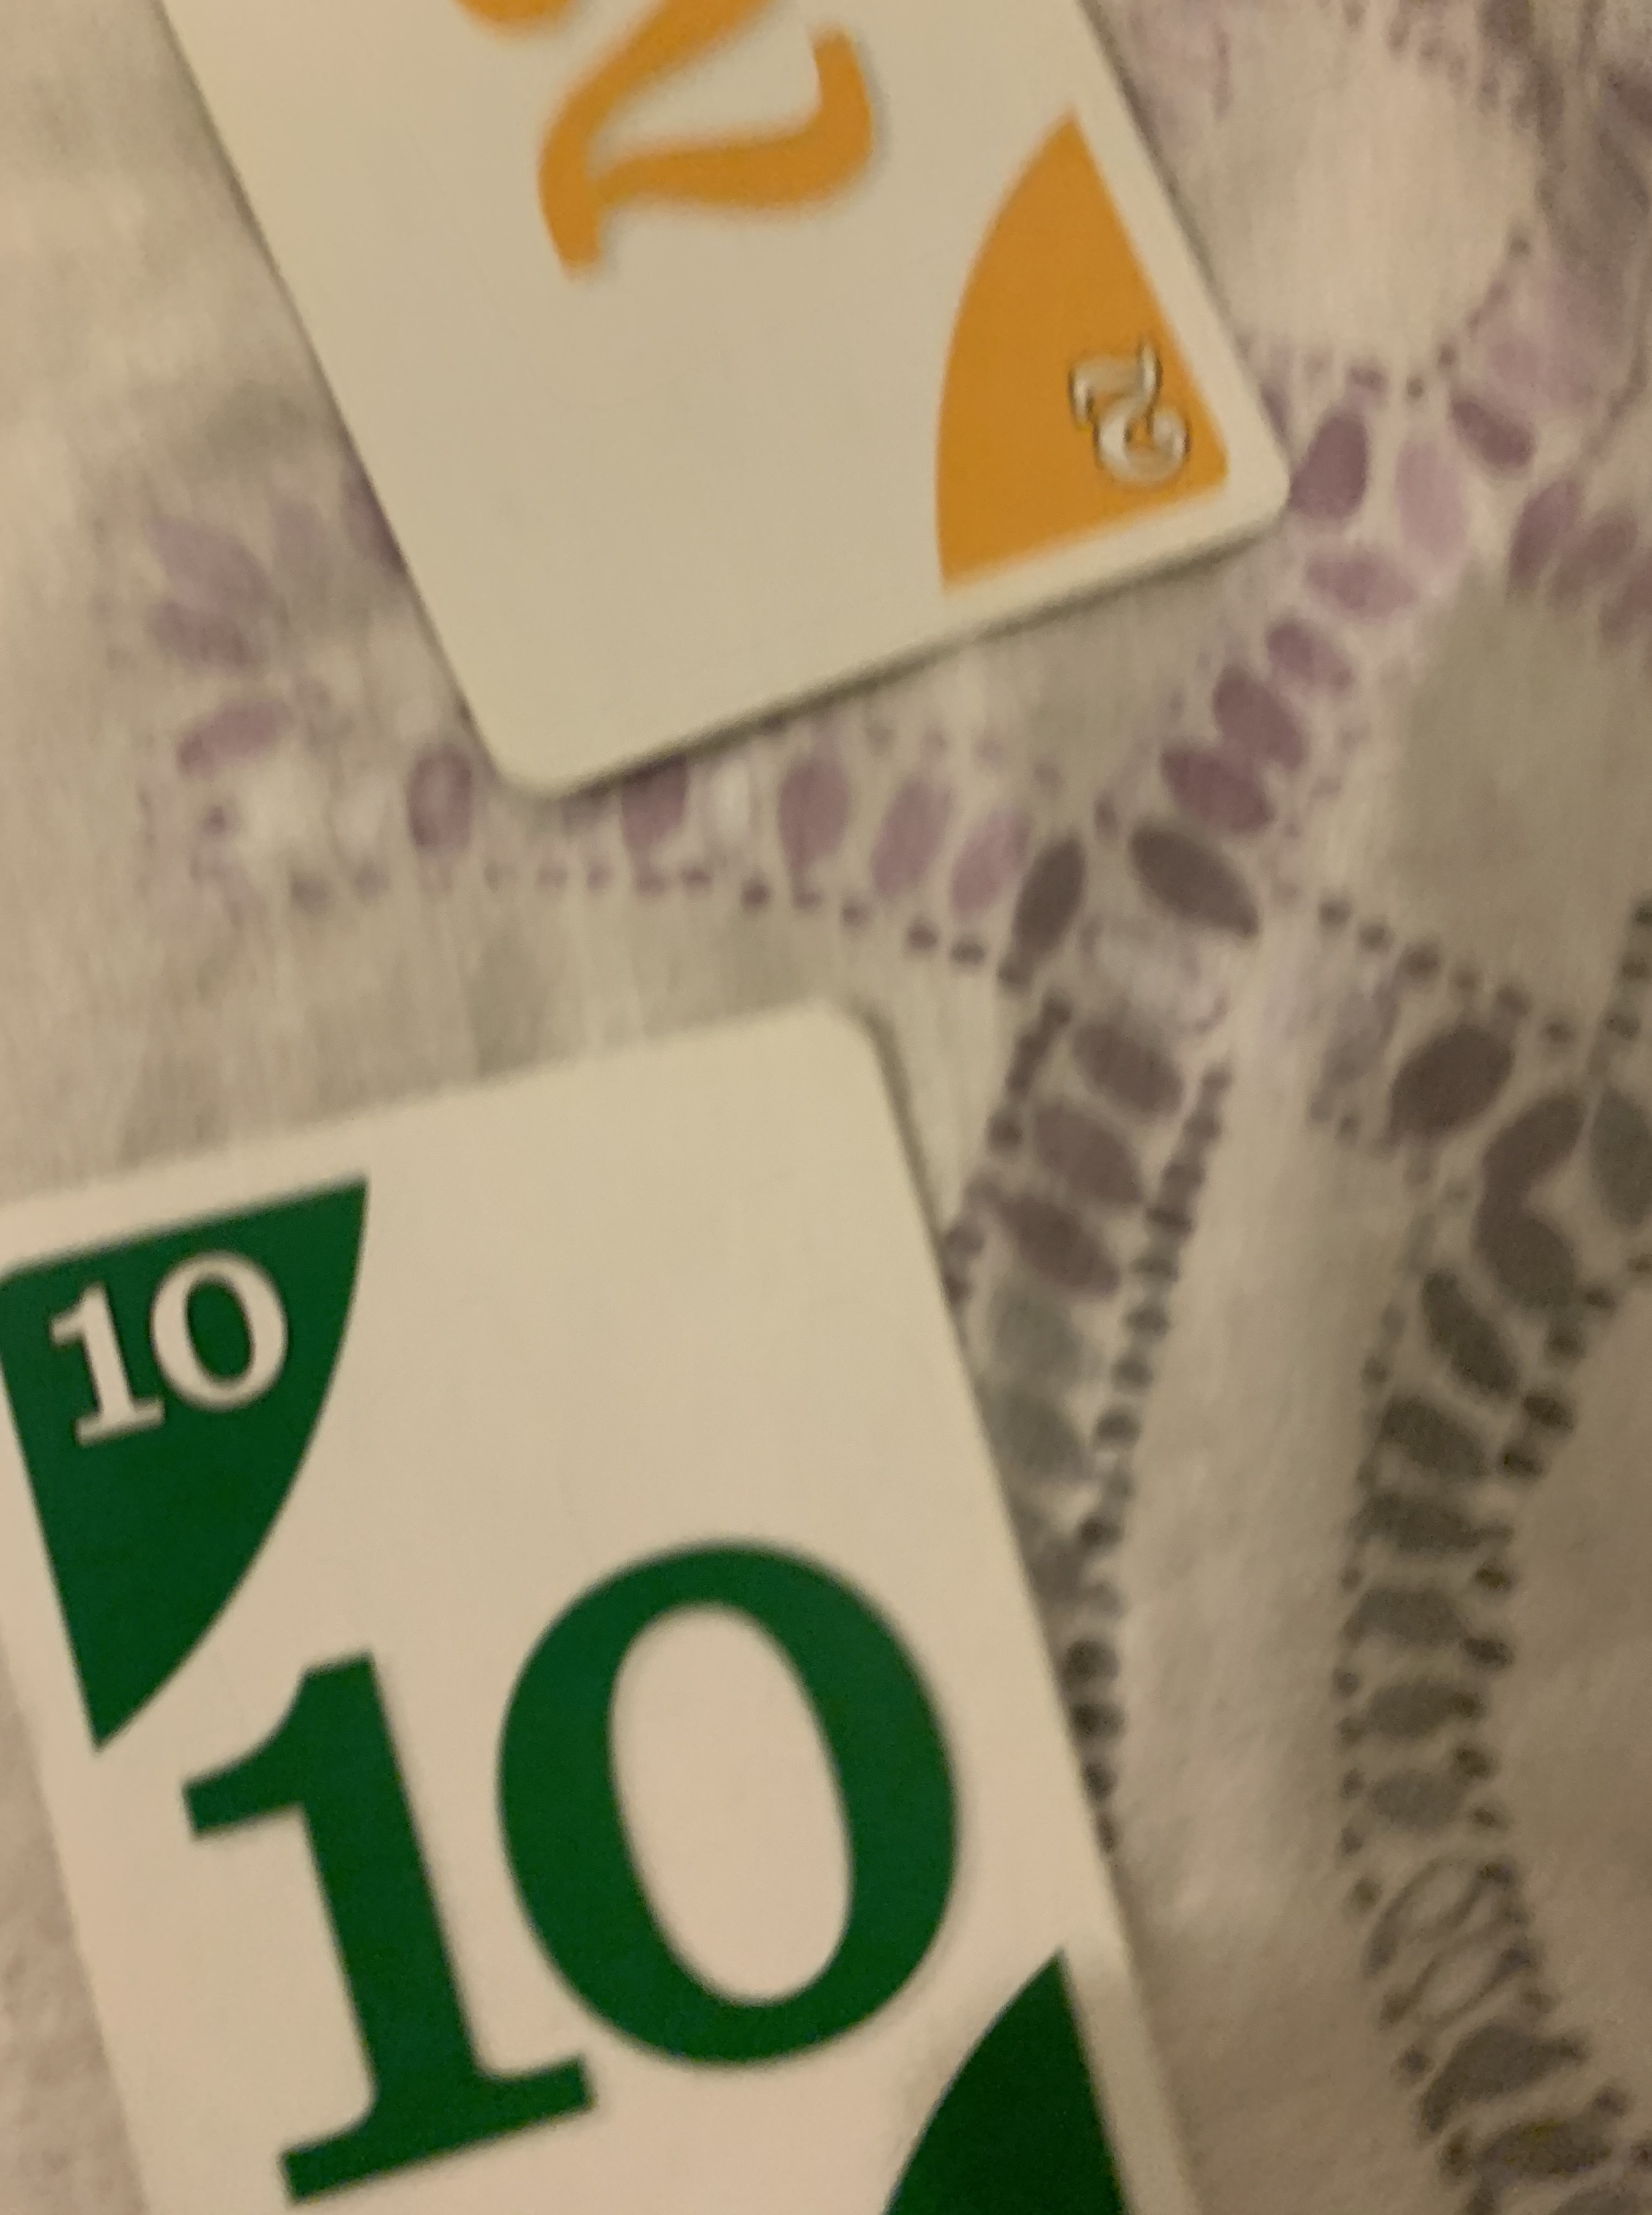ten: (17, 1000, 1199, 2215)
